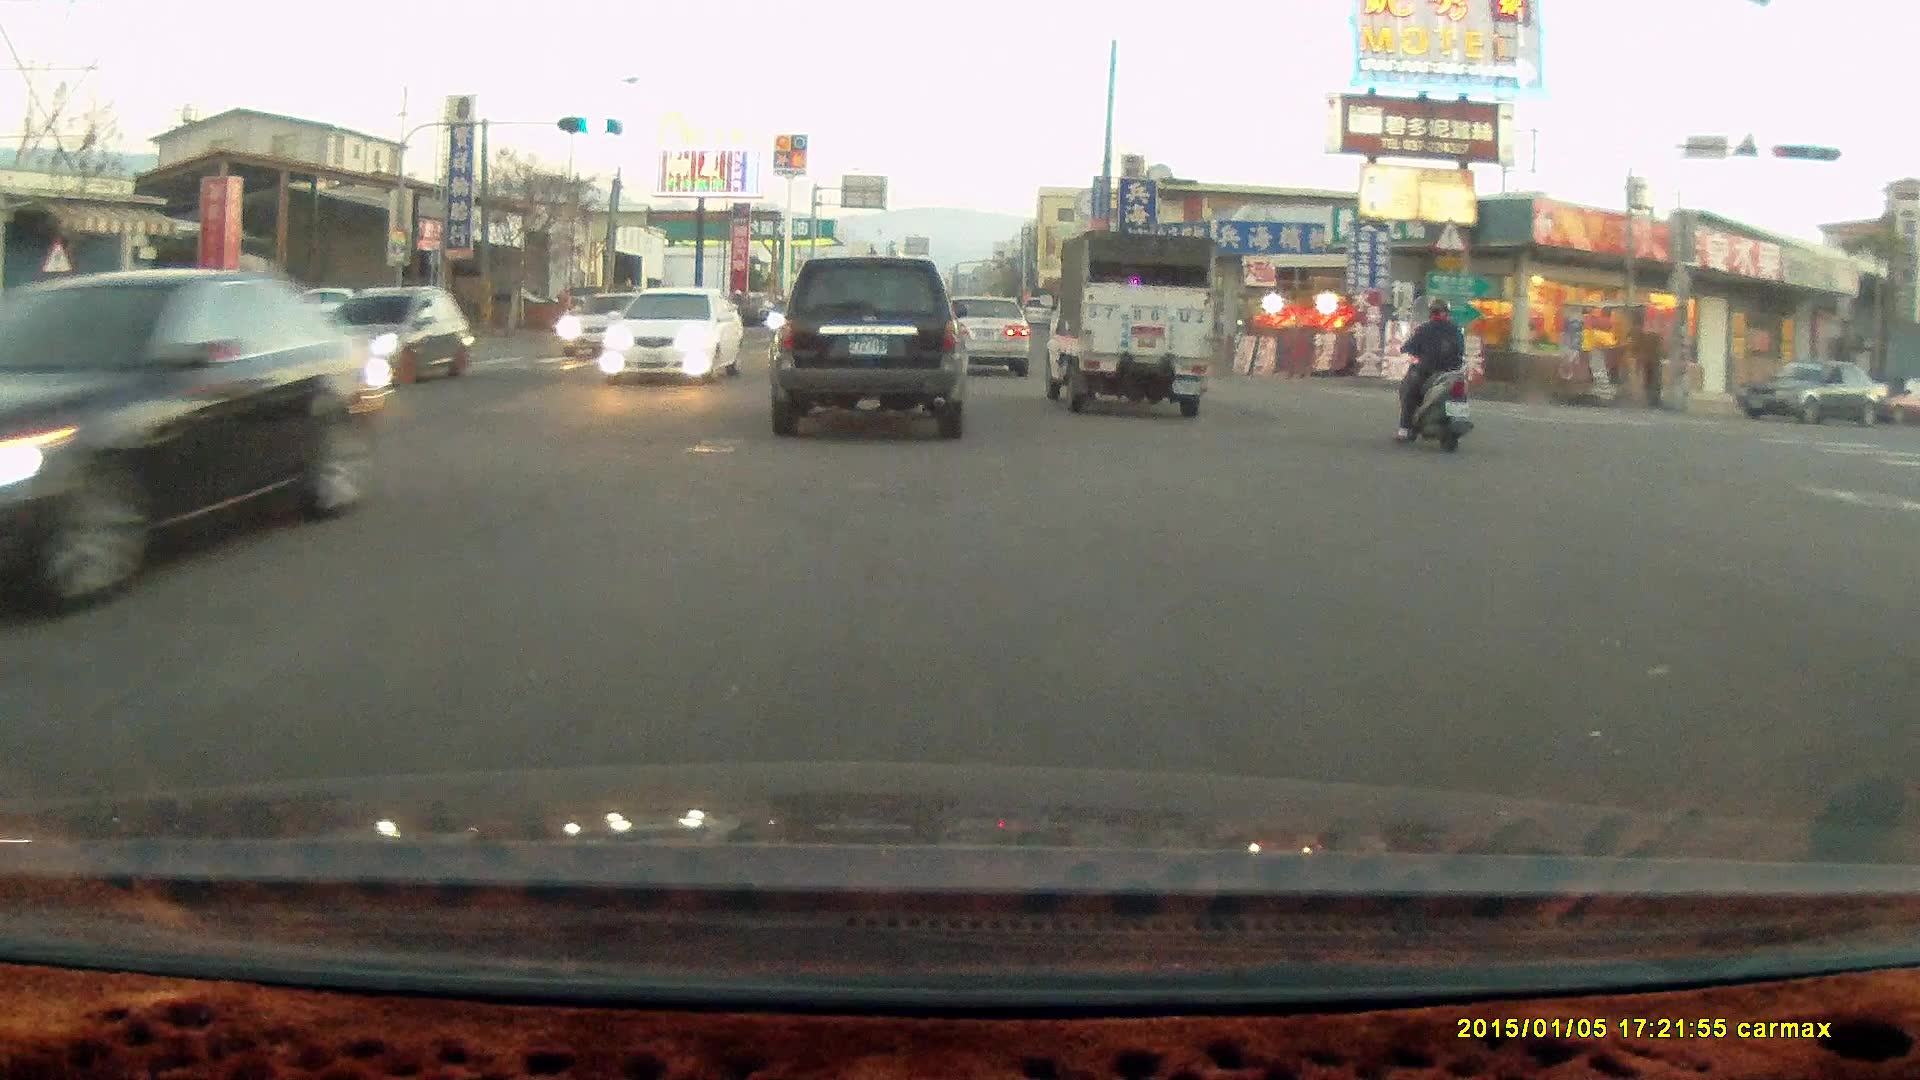rider: (1390, 290, 1476, 450)
vehicle: (1, 268, 387, 622), (766, 252, 969, 437), (1038, 227, 1215, 415), (293, 286, 475, 383), (604, 288, 746, 383), (1736, 358, 1892, 428), (929, 289, 1030, 375), (558, 289, 668, 364), (941, 293, 1034, 379), (264, 283, 391, 335)
